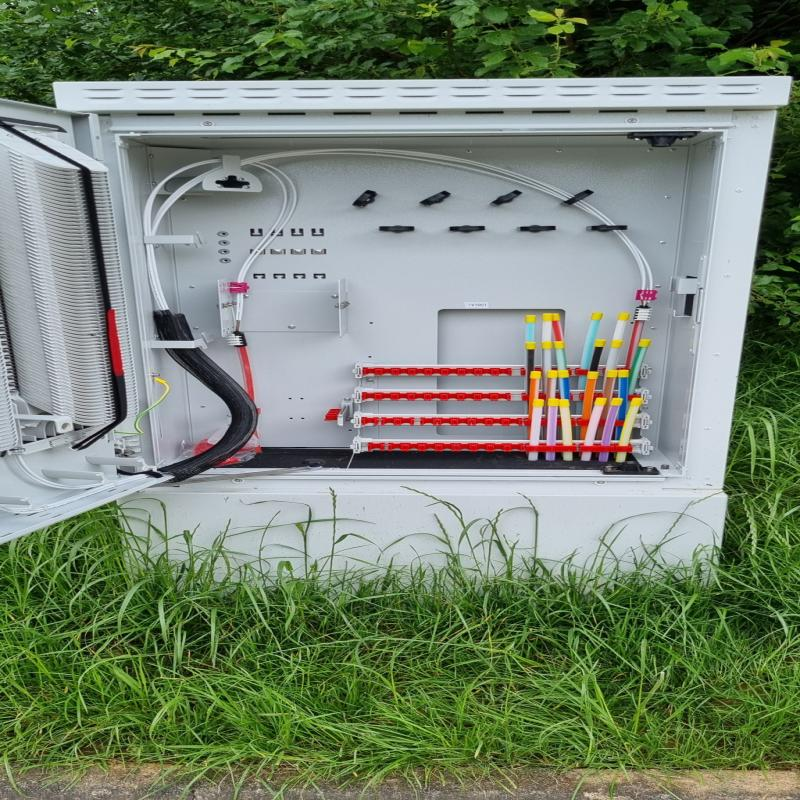NT-Gehause: (1, 78, 785, 560)
Spleiskassetten: (0, 119, 151, 440)
